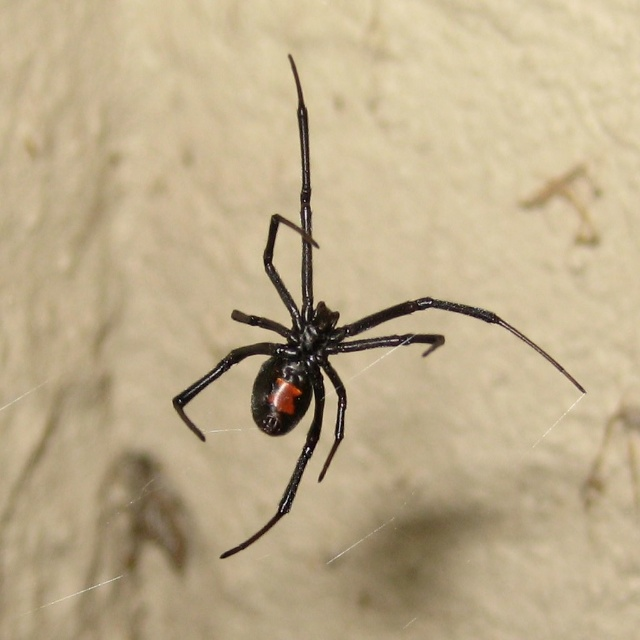Spider: (172, 54, 587, 559)
